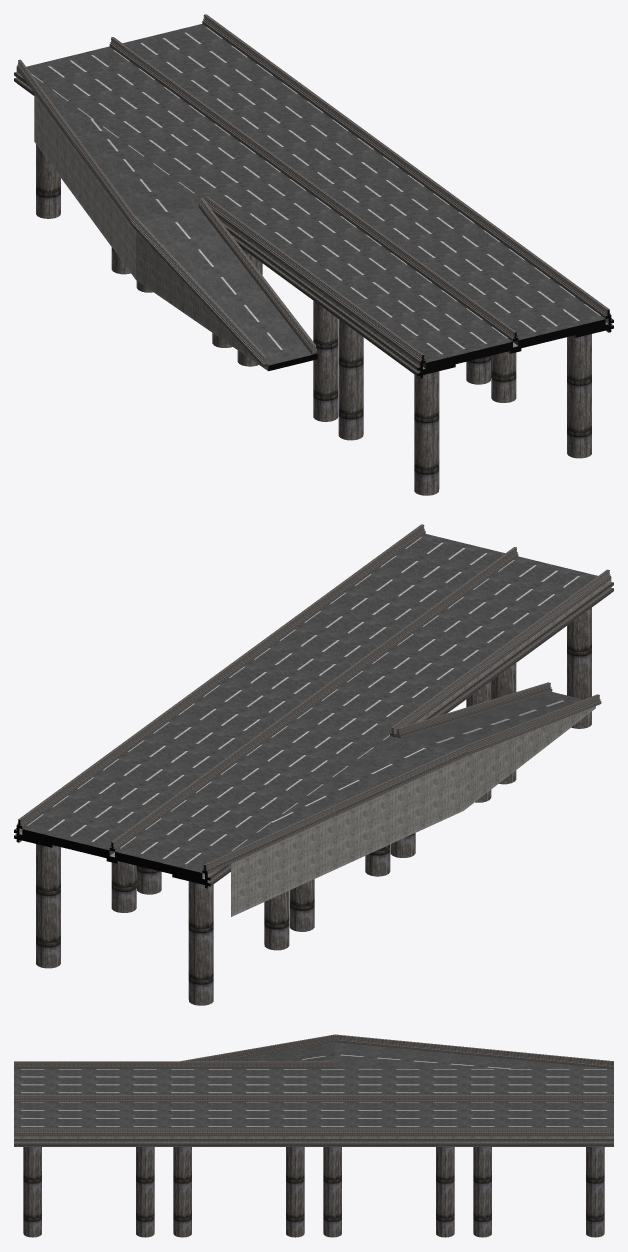
File: HighwayJunct1_off_high.fbx
3 views of the same model, one above another, from view 1: azimuth 30°, elevation 25°; view 2: azimuth 150°, elevation 25°; view 3: azimuth 270°, elevation 25° (orthographic). The views are drawn at different scales.
Visible parts, largest first — view 1: materialE150, materialD150, materialA150, materialB150, materialC150; view 2: materialE150, materialD150, materialB150, materialA150, materialC150; view 3: materialD150, materialE150, materialA150, materialB150.
Part boxes in pixels (box(x1,y1,x2,y2)): materialE150: box(26, 24, 605, 368); materialD150: box(14, 14, 613, 495); materialA150: box(33, 76, 311, 365); materialB150: box(16, 69, 608, 372); materialC150: box(268, 309, 613, 378); materialE150: box(22, 534, 597, 872); materialD150: box(14, 524, 613, 1005); materialB150: box(19, 579, 611, 916); materialA150: box(231, 692, 582, 851); materialC150: box(14, 819, 210, 888); materialD150: box(14, 1034, 613, 1237); materialE150: box(14, 1069, 613, 1128); materialA150: box(226, 1042, 611, 1068); materialB150: box(14, 1136, 613, 1142).
Bounding box in the file's own units: 78.4 × 41.6 × 205.
